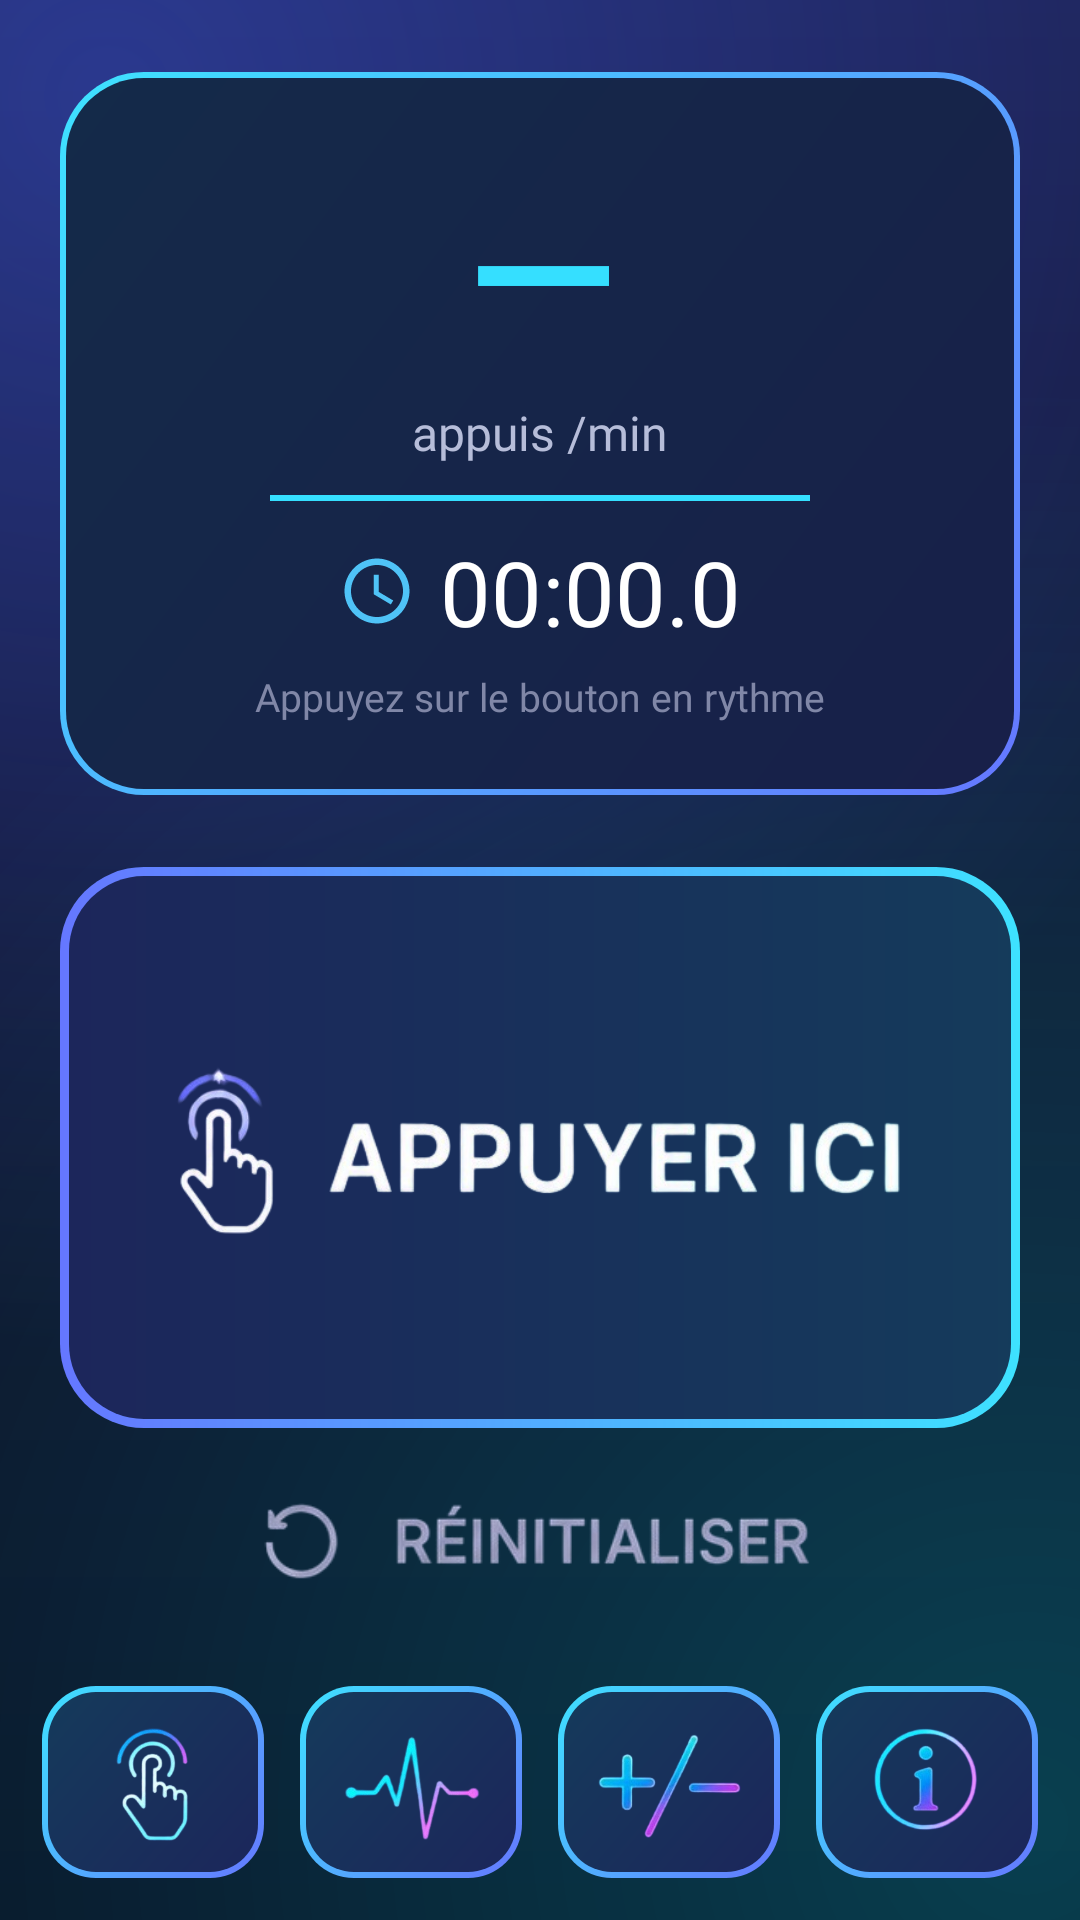

Icons on this 1080px x 1920px Android screen, each with the point to tap as (x,y):
Calculs: (669,1782)
clock: (377,591)
Compteur: (153,1782)
Info: (927,1782)
